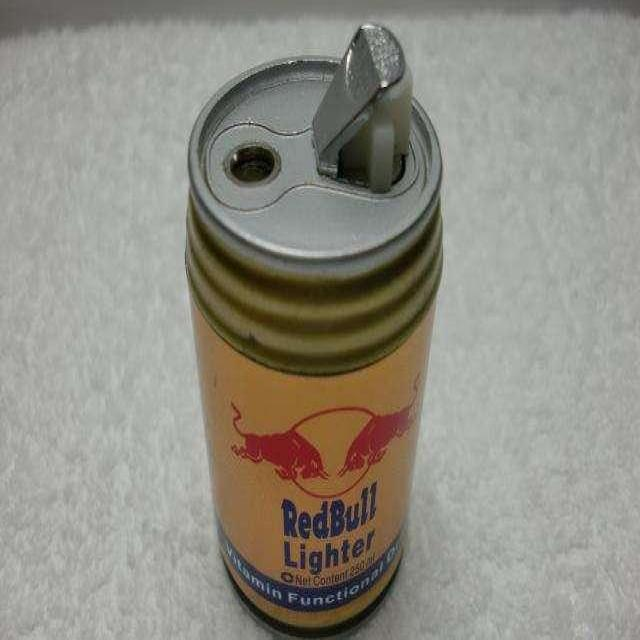-Recyclables - can-: (184, 17, 443, 637)
